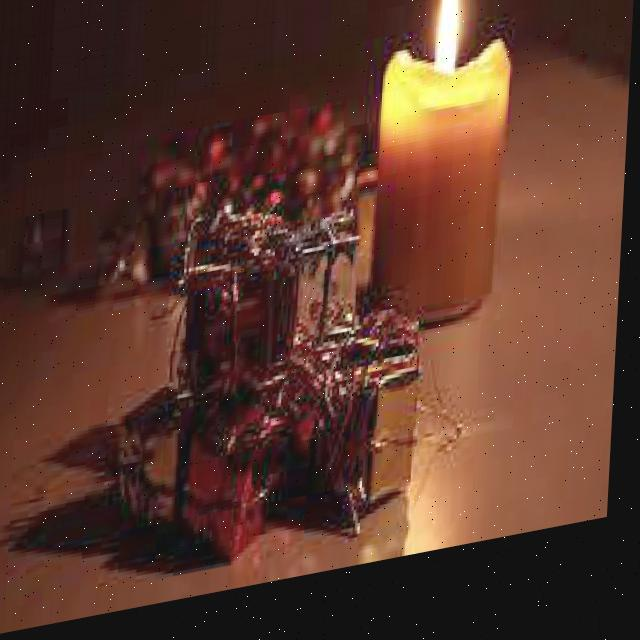Fire: (431, 0, 466, 94)
